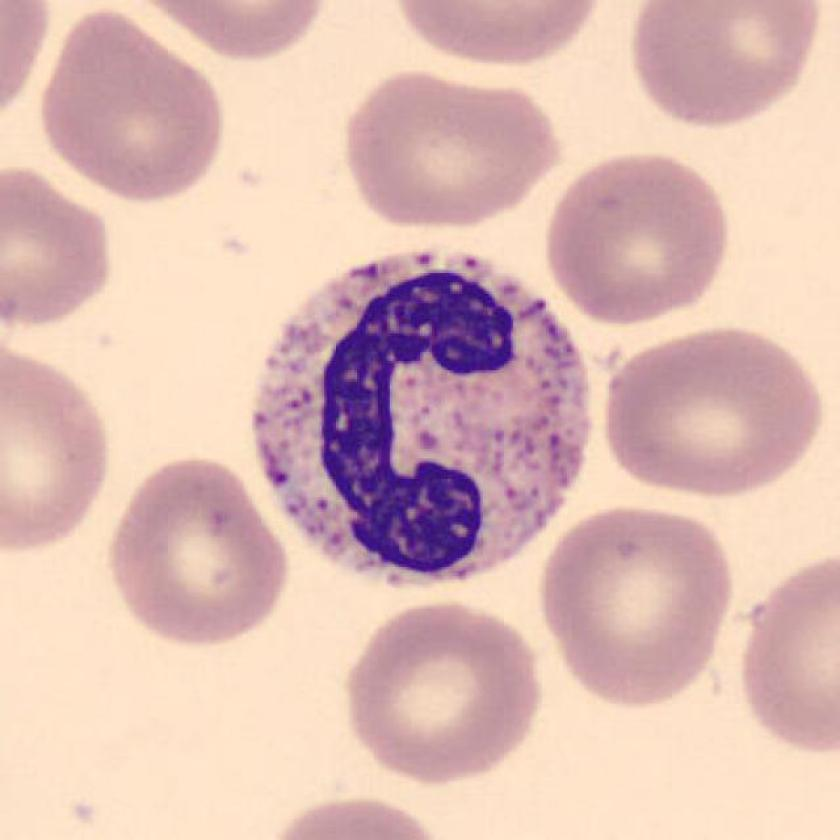neutrophil: (252, 251, 592, 583)
